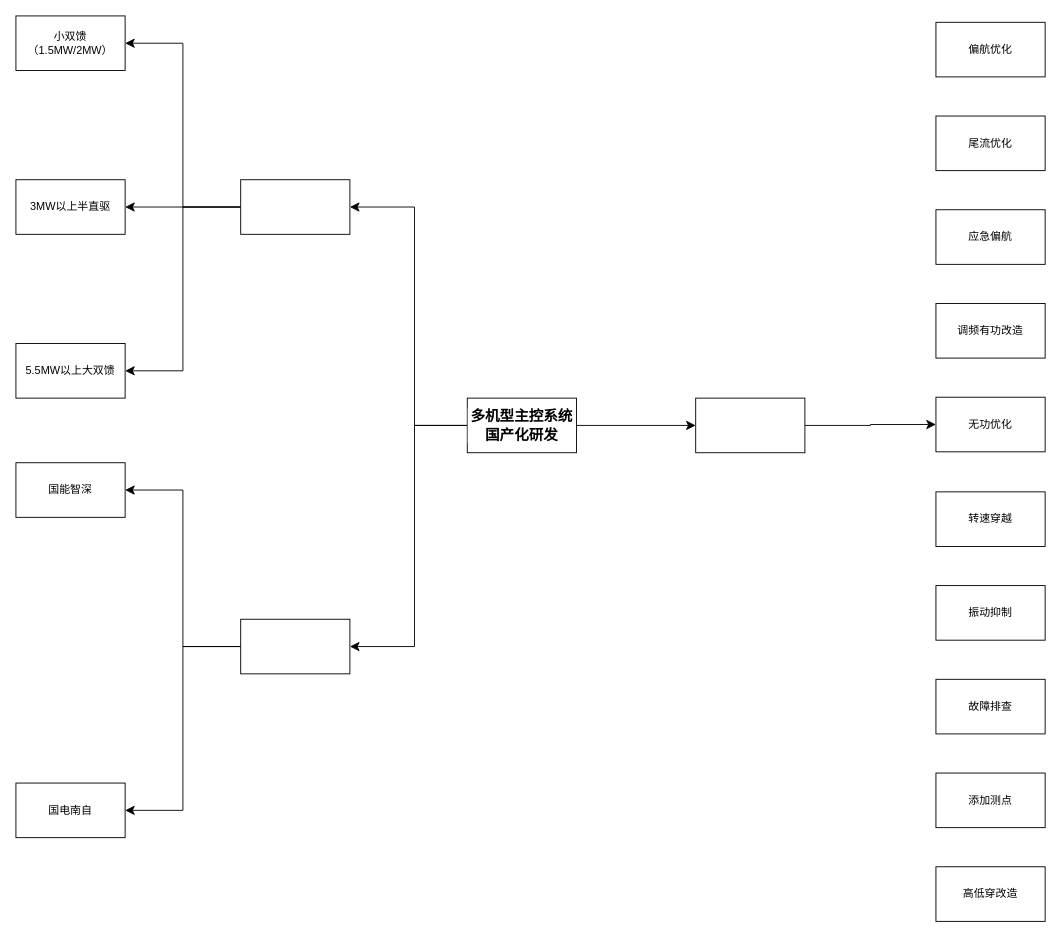
Image size: 1061x937. Some labels were removed from this diagram. The centre of each missing label's shape, as x and y in pixels:
"主控功能优化" belongs at [750,425].
"机型" belongs at [295,206].
"硬件平台" belongs at [295,646].
